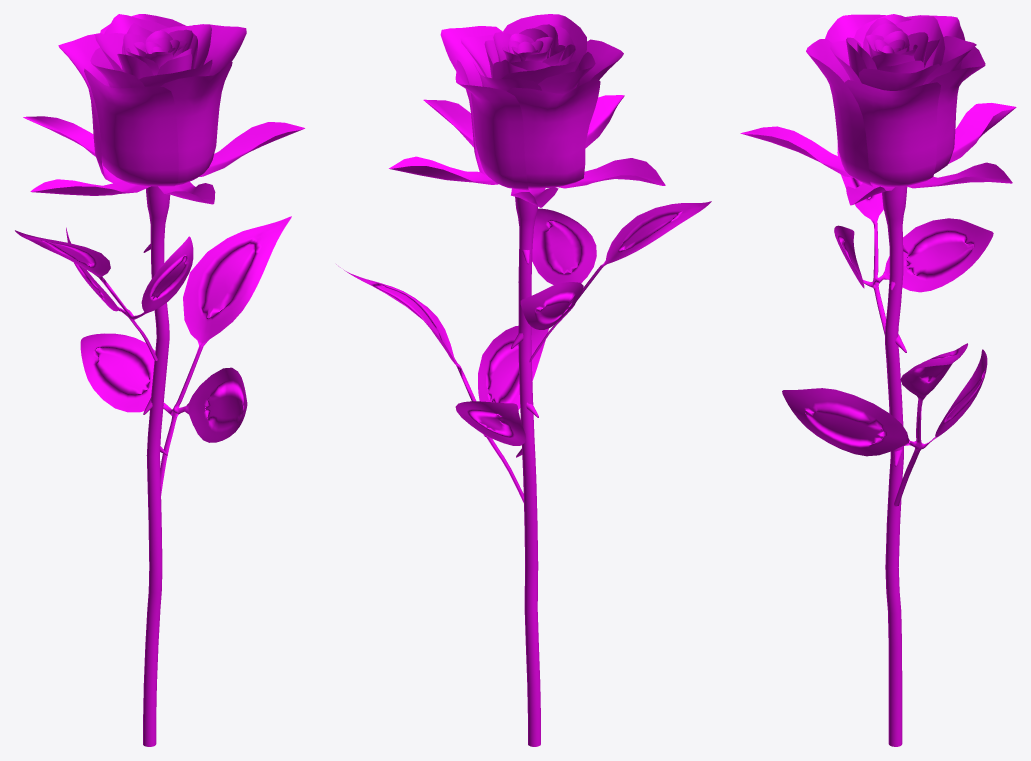
Rendered from roseTri.obj.
The picture shows the model from 3 angles, left to right: view 1: azimuth 30°, elevation 25°; view 2: azimuth 150°, elevation 25°; view 3: azimuth 270°, elevation 25°; orthographic projection.
Visible parts, largest first — view 1: rose1; view 2: rose1; view 3: rose1.
Boxes of the visible parts, box(x1,y1,x2,y2) form: rose1: box(15, 14, 304, 746); rose1: box(336, 14, 711, 746); rose1: box(740, 14, 1016, 746).
Size of the model in its own units: 35.98 by 73.68 by 26.
